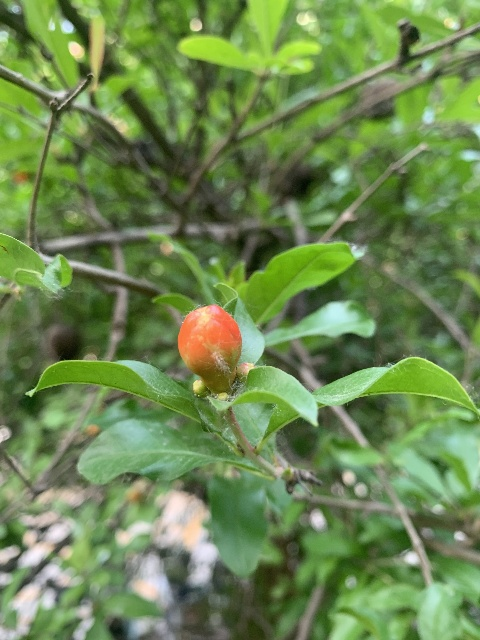bud: (177, 304, 242, 392)
